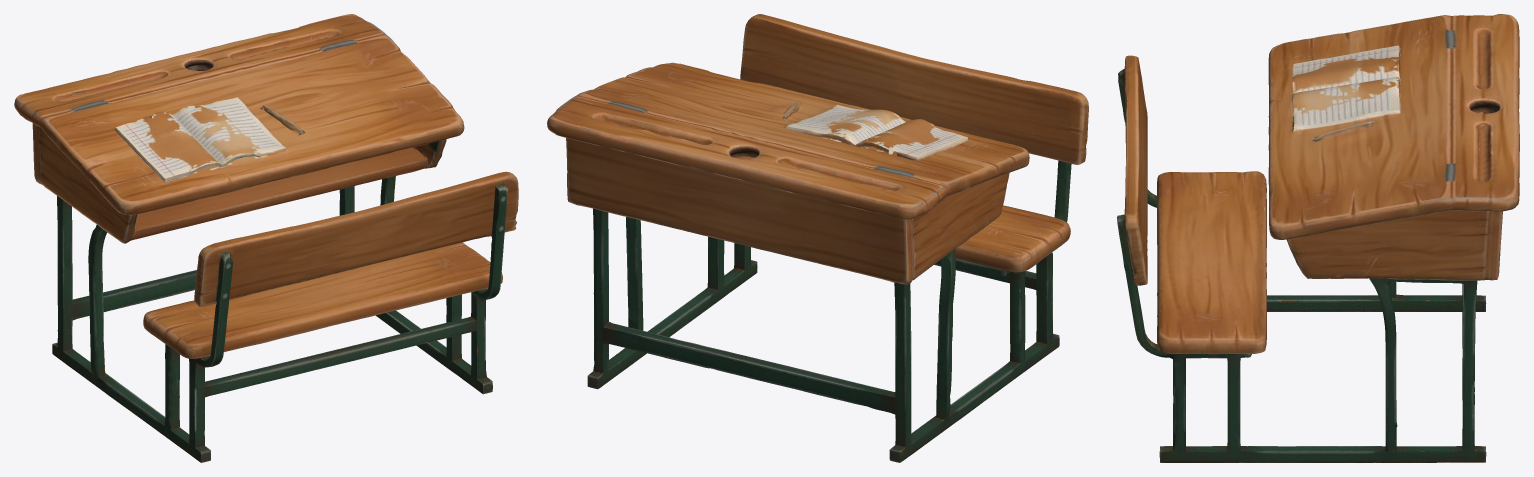
File: schoolDesk.glb
3 renders of one model, left to right at view 1: azimuth 30°, elevation 25°; view 2: azimuth 150°, elevation 25°; view 3: azimuth 270°, elevation 25°, orthographic. The views are drawn at different scales.
Size of the model in its own units: 1.9 by 1.33 by 1.74.
Materials: 1 (1 with a texture image).
